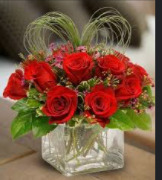RedRose: (83, 83, 119, 124), (42, 87, 81, 122), (64, 51, 95, 86)
